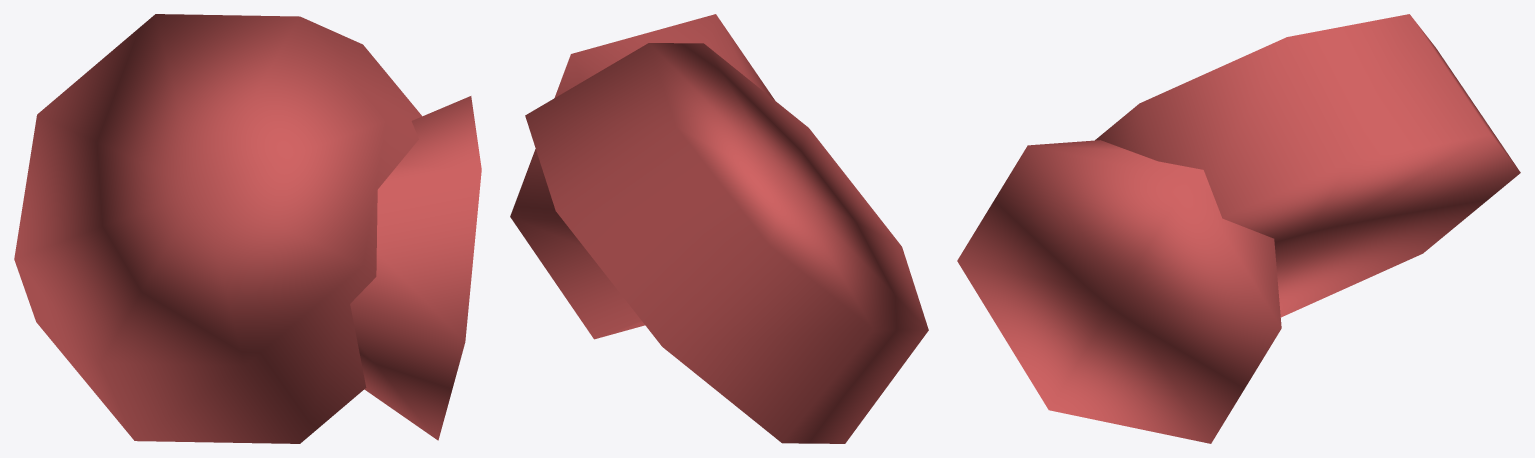
File: channel-buoy-wreck.glb
3 renders of one model, left to right at view 1: azimuth 30°, elevation 25°; view 2: azimuth 150°, elevation 25°; view 3: azimuth 270°, elevation 25°, orthographic. The views are drawn at different scales.
Parts seen in each view (by area): view 1: Root; view 2: Root; view 3: Root.
Part boxes in pixels (<box>): Root: <box>14,14,481,443</box>; Root: <box>510,14,928,443</box>; Root: <box>957,14,1520,443</box>.
Bounding box in the file's own units: 3.16 × 2.81 × 3.73.
